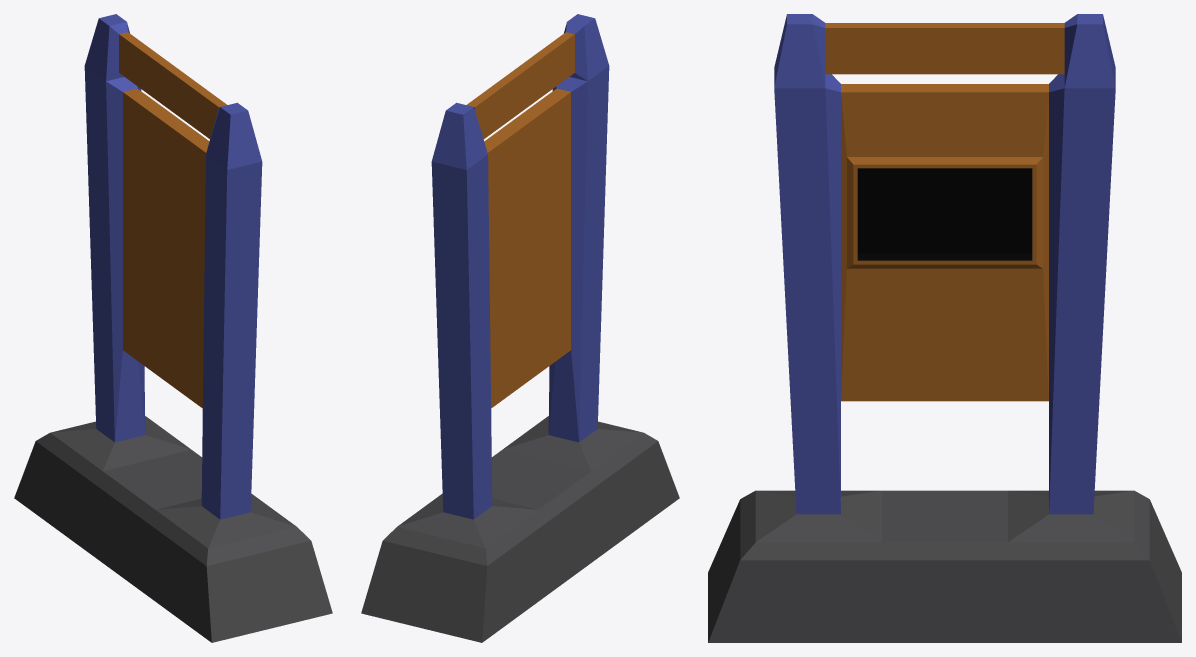
File: Kiosk.fbx
3 renders of one model, left to right at view 1: azimuth 30°, elevation 25°; view 2: azimuth 150°, elevation 25°; view 3: azimuth 270°, elevation 25°, orthographic. The views are drawn at different scales.
Visible parts, largest first — view 1: InfoStand; view 2: InfoStand; view 3: InfoStand.
Part boxes in pixels (x1,y1,x2,y2): InfoStand: (14, 14, 332, 642); InfoStand: (361, 14, 679, 642); InfoStand: (708, 14, 1181, 642).
Bounding box in the file's own units: 81.69 × 317 × 231.
